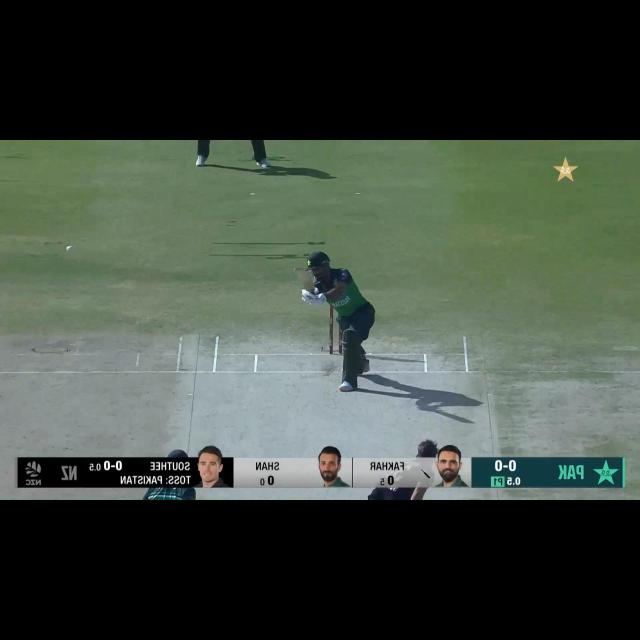bat: (294, 268, 317, 293)
toe: (294, 267, 307, 276)
